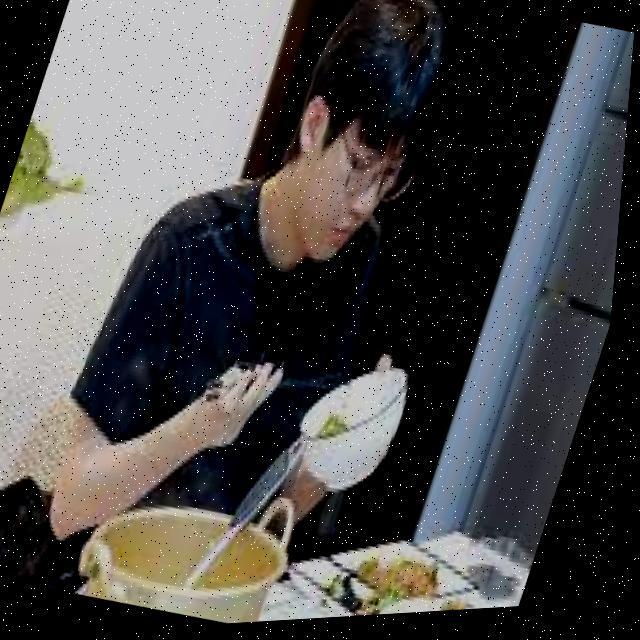eating-person: (24, 0, 529, 620)
